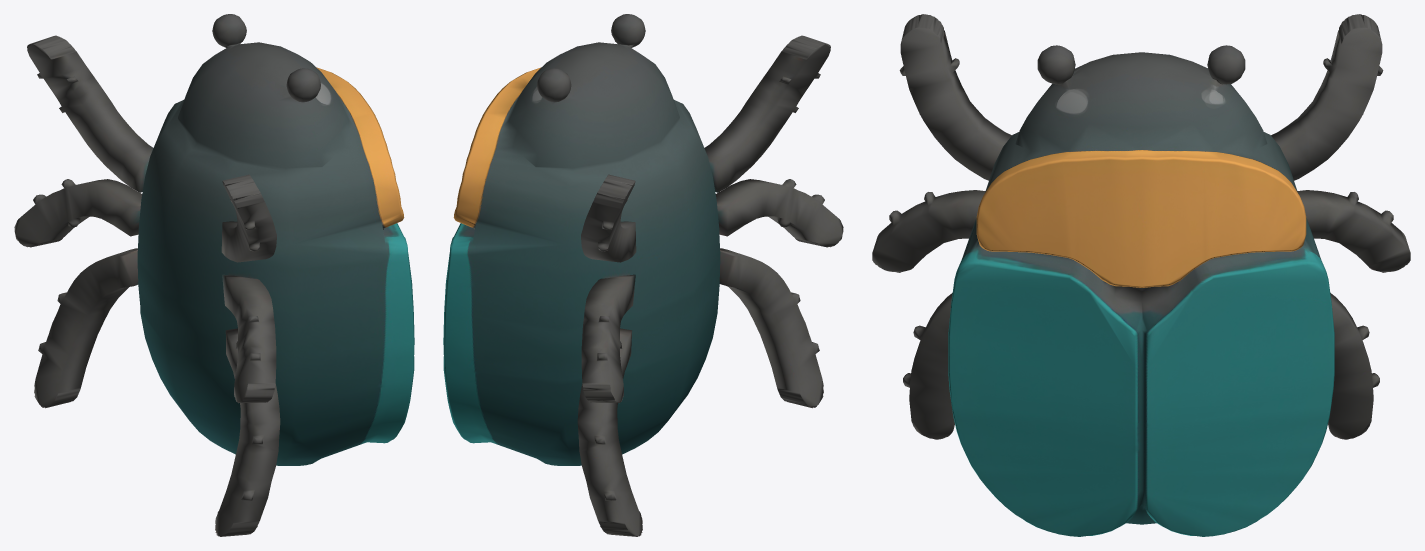
Rendered from icon-bug.glb.
3 views of the same model, side by side, from view 1: azimuth 30°, elevation 25°; view 2: azimuth 150°, elevation 25°; view 3: azimuth 270°, elevation 25° (orthographic). The views are drawn at different scales.
Visible parts, largest first — view 1: tripo_node_kodyurd-model-26____________________; view 2: tripo_node_kodyurd-model-26____________________; view 3: tripo_node_kodyurd-model-26____________________.
Boxes of the visible parts, x1,y1,x2,y2 form: tripo_node_kodyurd-model-26____________________: (14, 14, 414, 536); tripo_node_kodyurd-model-26____________________: (443, 14, 843, 536); tripo_node_kodyurd-model-26____________________: (872, 14, 1410, 536).
Size of the model in its own units: 0.5879 by 0.959 by 0.998.
Materials: 1 (1 with a texture image).
